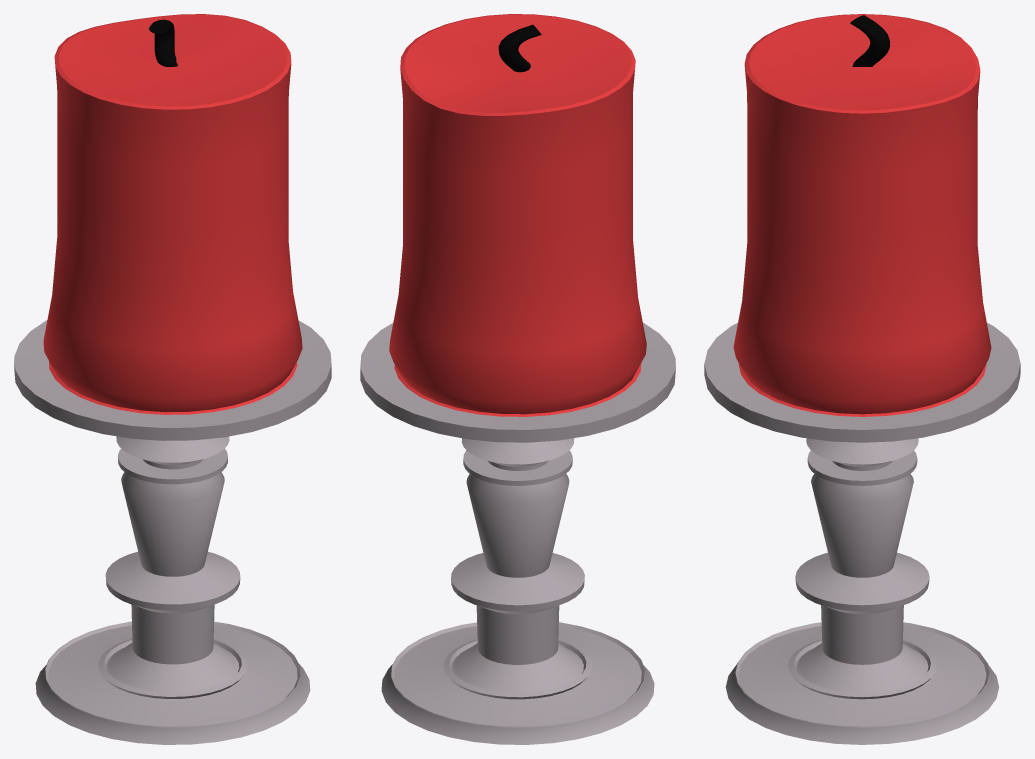
Rendered from CandlesFat_Medium.fbx.
3 renders of one model, left to right at view 1: azimuth 30°, elevation 25°; view 2: azimuth 150°, elevation 25°; view 3: azimuth 270°, elevation 25°, orthographic.
Parts seen in each view (by area): view 1: CandleMed; view 2: CandleMed; view 3: CandleMed.
Boxes of the visible parts, x1,y1,x2,y2 form: CandleMed: (14, 14, 331, 744); CandleMed: (360, 14, 675, 744); CandleMed: (704, 14, 1020, 744).
Bounding box in the file's own units: 13.67 × 31.66 × 13.68.
